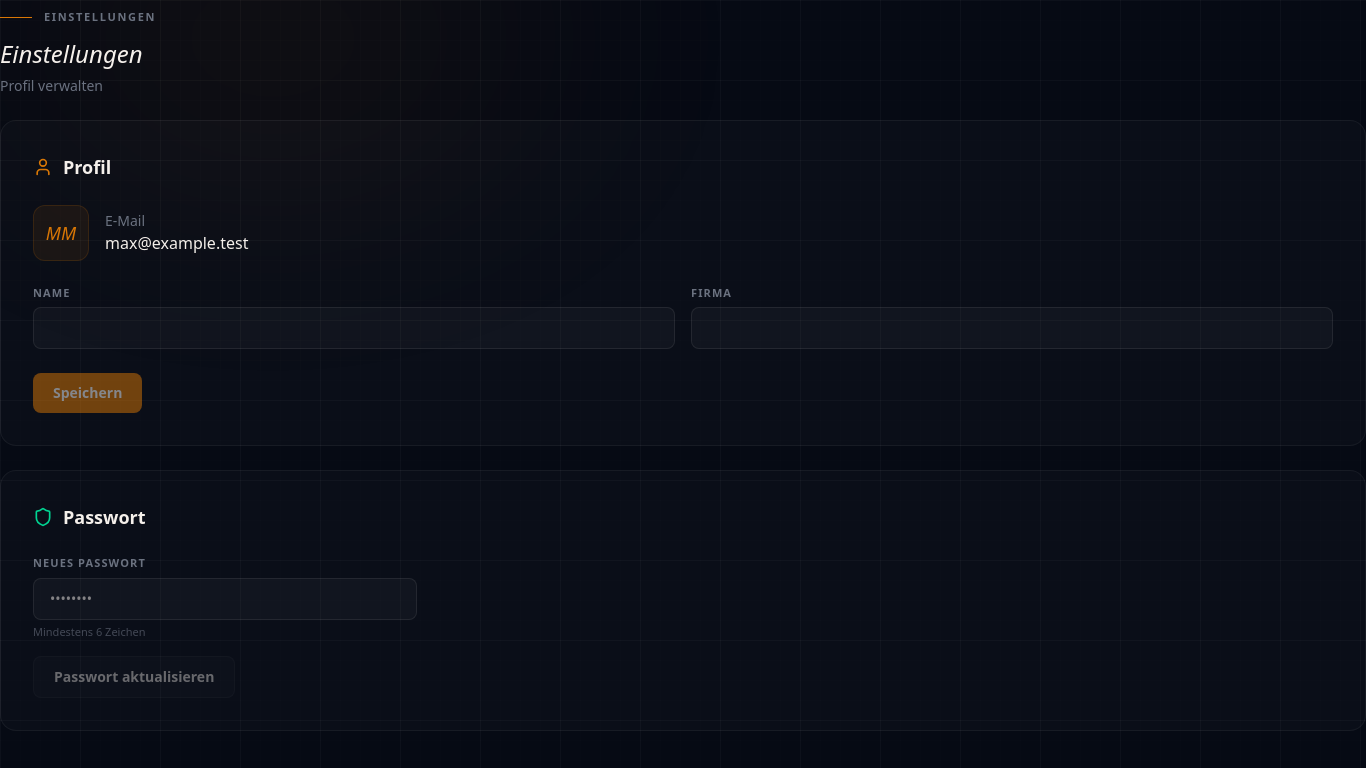
Test: settings password feedback › recovers from rejected password updates and shows the raw error message
This screenshot has width=1366, height=768.
Type "123456" into the password field with placeholder "••••••••" at (225, 599), box 33,578 -> 417,620
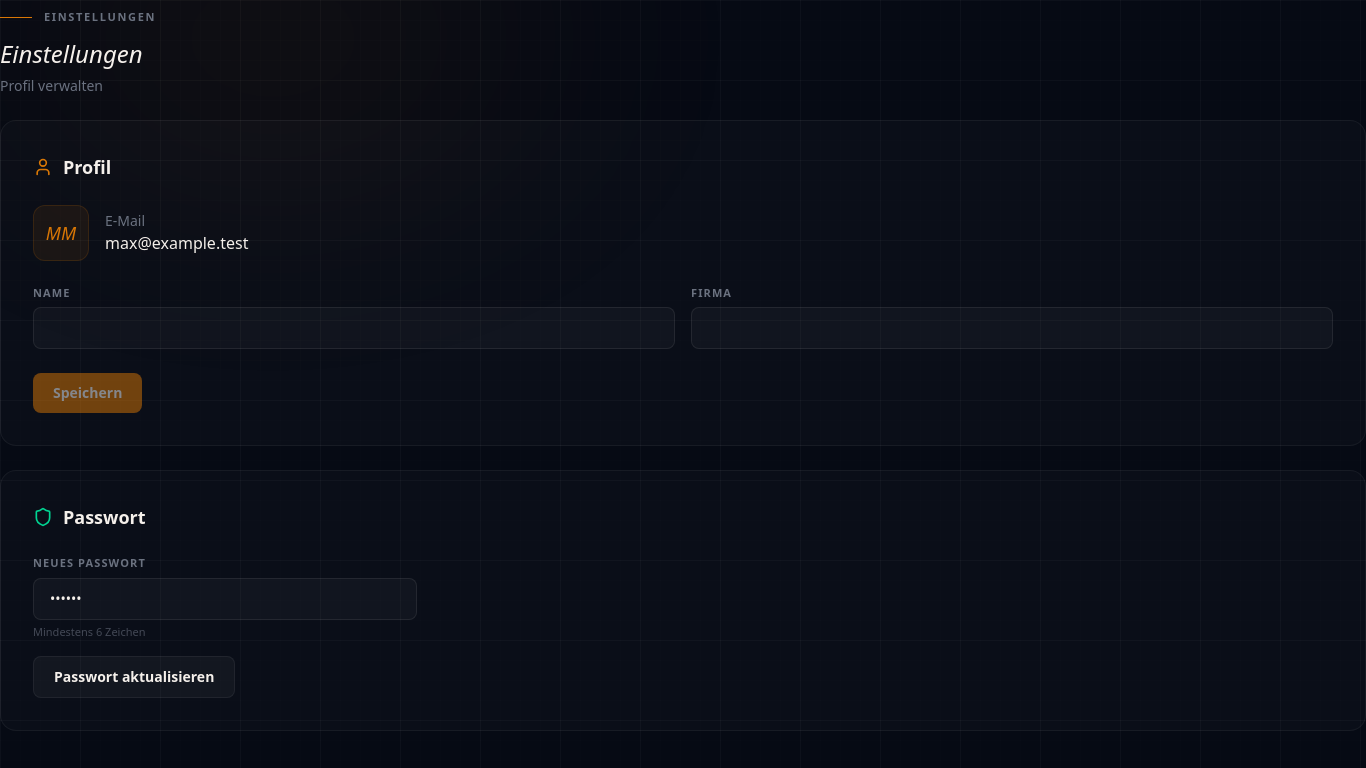
Click the button "Passwort aktualisieren" at (134, 677), box 33,656 -> 235,698
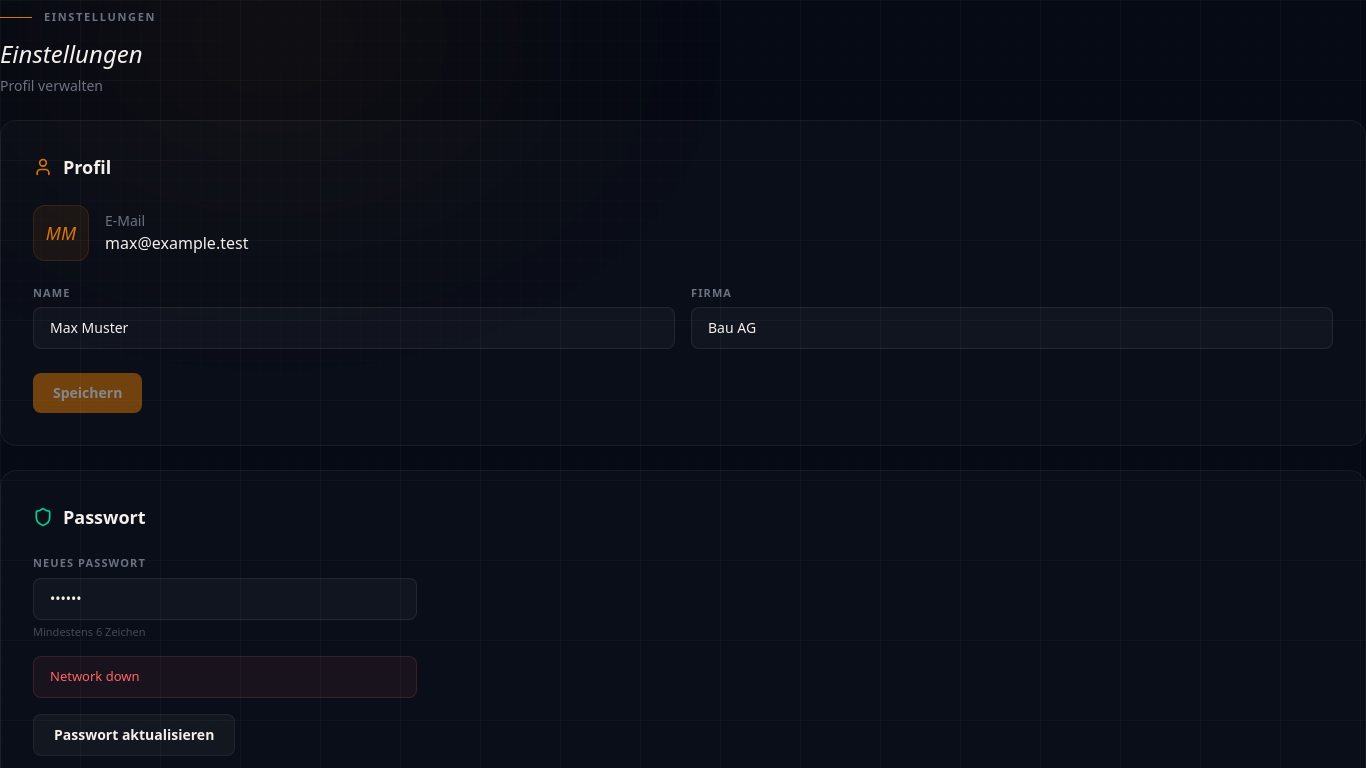
Expected: the button "Passwort aktualisieren" is enabled, 33,714 -> 235,756
Expected: the text "Network down" is shown, 33,656 -> 417,698
